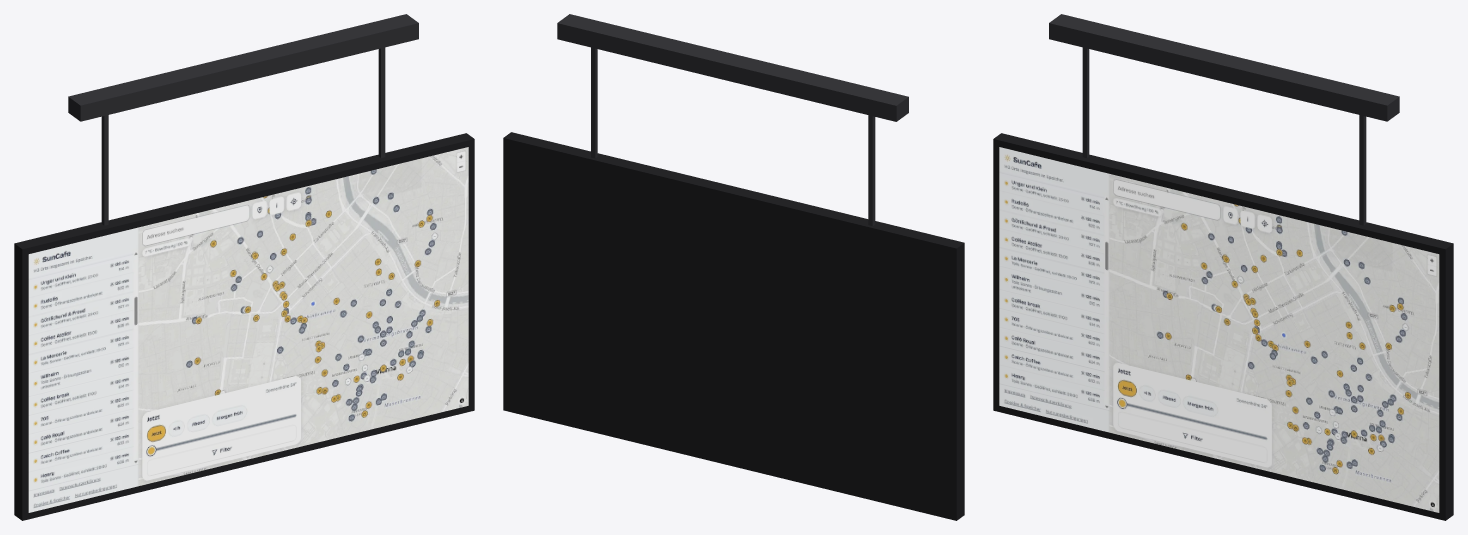
Rendered from suncafe_screen.glb.
The picture shows the model from 3 angles, left to right: view 1: azimuth 30°, elevation 25°; view 2: azimuth 150°, elevation 25°; view 3: azimuth 330°, elevation 25°; orthographic projection.
Parts seen in each view (by area): view 1: Screen, Display, Schiene, Stange (×2); view 2: Display, Schiene, Stange (×2); view 3: Screen, Display, Schiene, Stange (×2).
Boxes of the visible parts, <box> form: Screen: <box>28,147,468,512</box>; Display: <box>14,133,474,520</box>; Schiene: <box>68,14,418,121</box>; Stange (×2): <box>101,47,385,225</box>; Display: <box>503,132,964,520</box>; Schiene: <box>557,14,908,121</box>; Stange (×2): <box>591,47,875,226</box>; Screen: <box>999,147,1439,512</box>; Display: <box>993,133,1453,520</box>; Schiene: <box>1049,14,1399,121</box>; Stange (×2): <box>1082,47,1366,225</box>.
Bounding box in the file's own units: 1.47 × 1.25 × 0.07.
3 materials, 1 textured.
